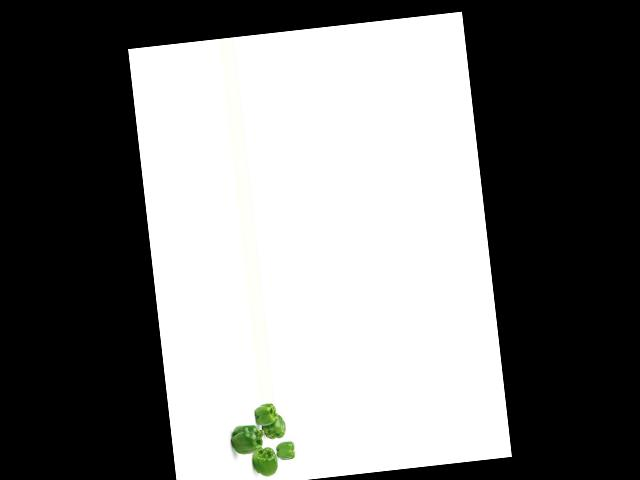bell_pepper: (251, 402, 277, 428)
